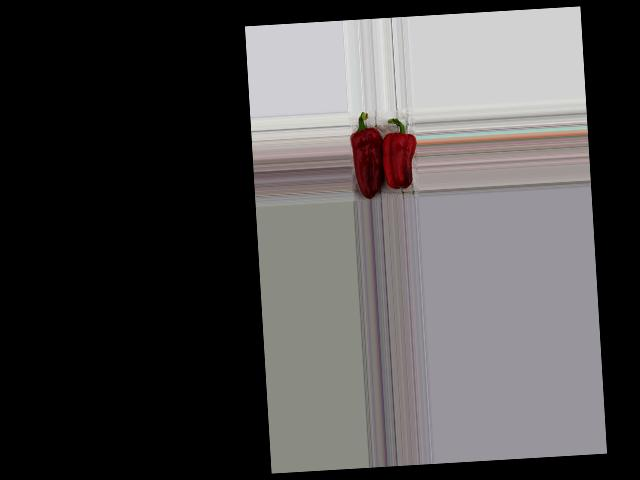bell_pepper: (349, 108, 386, 199)
